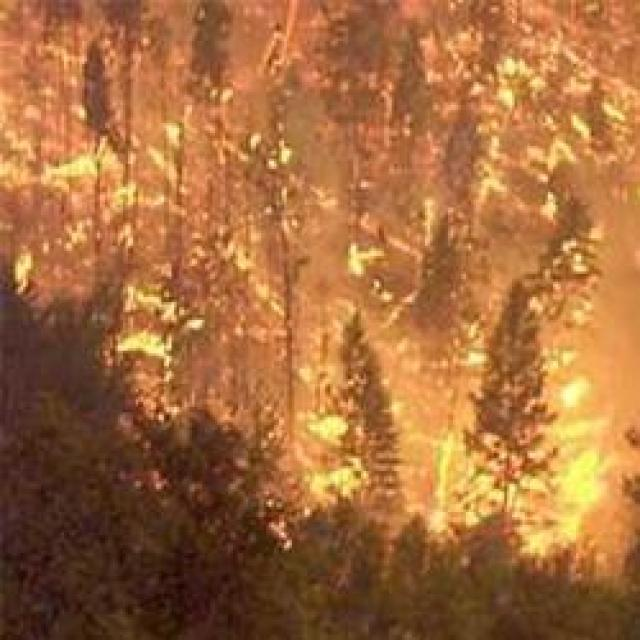Fire: (544, 411, 618, 559), (296, 414, 368, 509), (408, 428, 479, 521), (114, 277, 174, 357)
